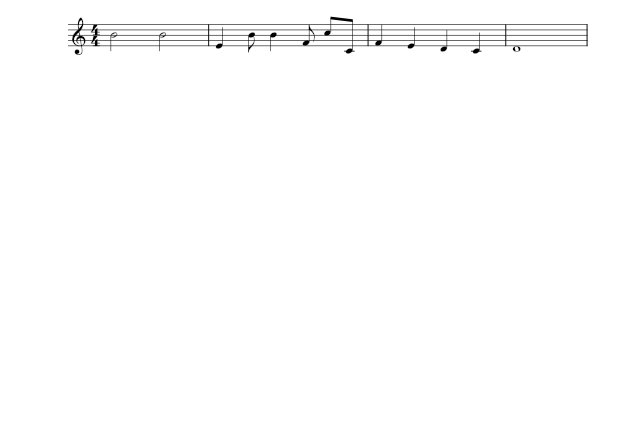Treble Clef: (68, 12, 88, 60)
